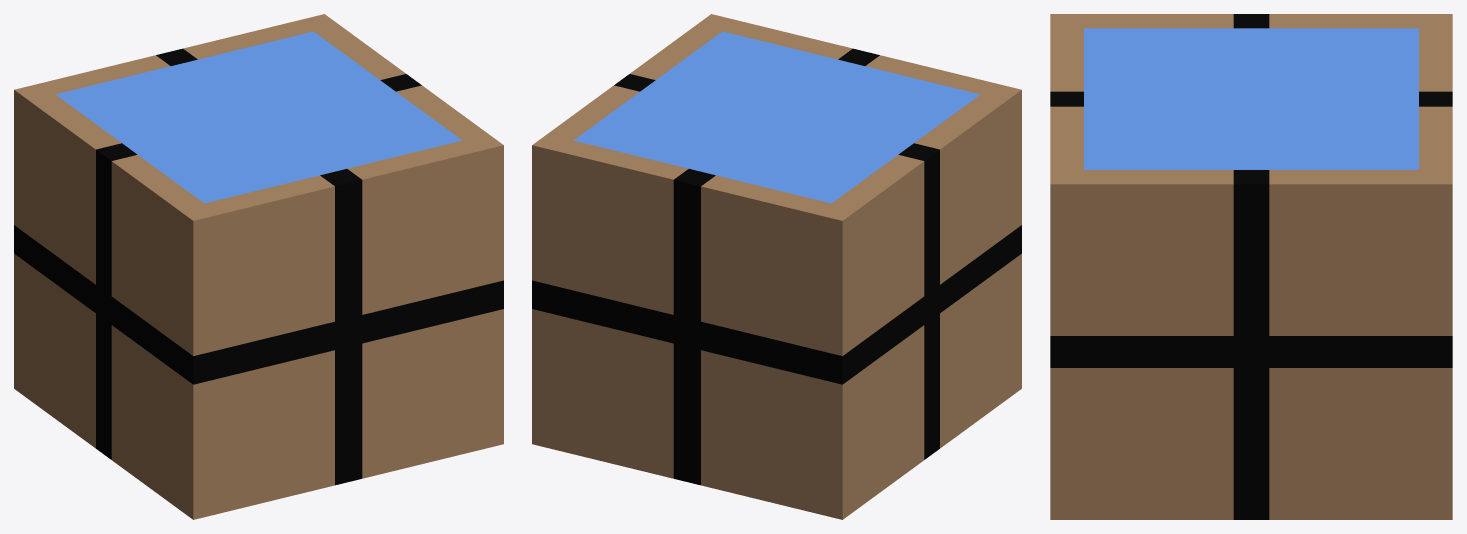
3 renders of one model, left to right at view 1: azimuth 30°, elevation 25°; view 2: azimuth 150°, elevation 25°; view 3: azimuth 270°, elevation 25°, orthographic. The views are drawn at different scales.
Parts seen in each view (by area): view 1: Box.003; view 2: Box.003; view 3: Box.003.
Boxes of the visible parts, left/top/right/bottom form: Box.003: left=14, top=14, right=503, bottom=519; Box.003: left=532, top=14, right=1021, bottom=519; Box.003: left=1050, top=14, right=1452, bottom=519.
Size of the model in its own units: 52.72 by 48.51 by 52.72.
